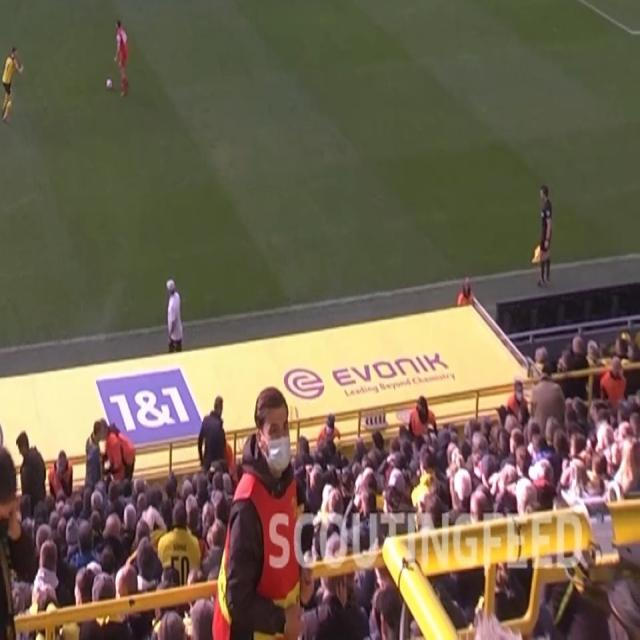ball: (106, 77, 113, 91)
